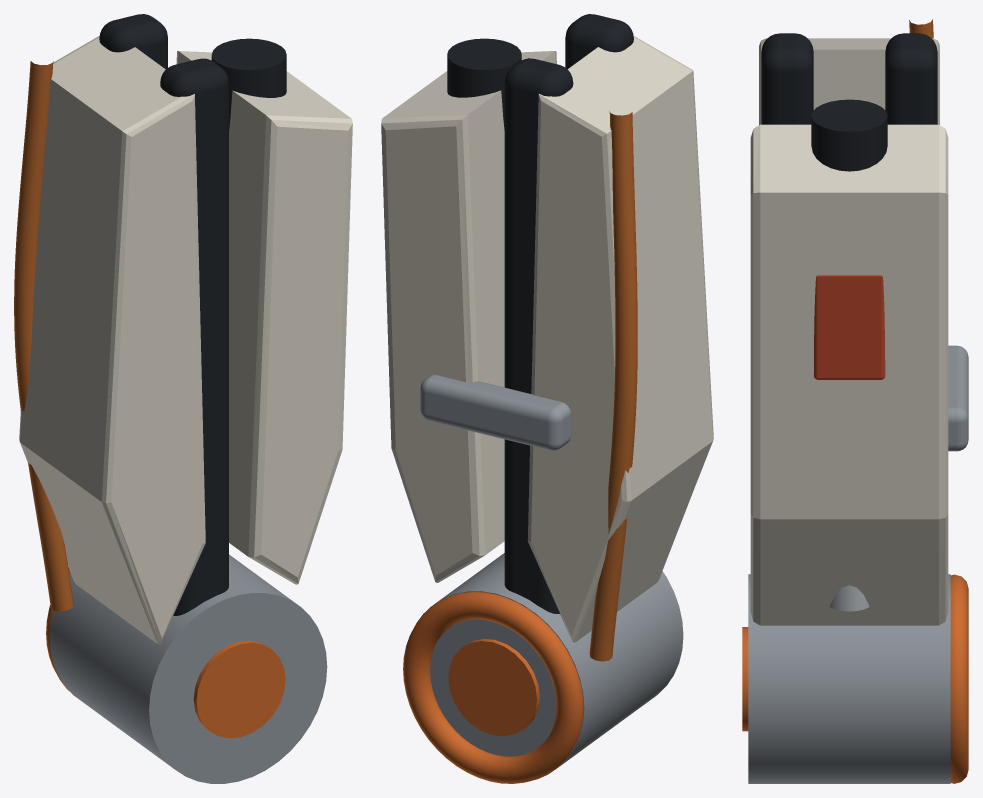
The model's file is left_shin_link.glb.
3 views of the same model, side by side, from view 1: azimuth 30°, elevation 25°; view 2: azimuth 150°, elevation 25°; view 3: azimuth 270°, elevation 25° (orthographic). The views are drawn at different scales.
Visible parts, largest first — view 1: left_shin_link; view 2: left_shin_link; view 3: left_shin_link.
Part boxes in pixels (left/top/right/bottom): left_shin_link: left=14, top=14, right=352, bottom=783; left_shin_link: left=381, top=14, right=713, bottom=783; left_shin_link: left=742, top=19, right=968, bottom=783.
Size of the model in its own units: 0.1242 by 0.334 by 0.095.
